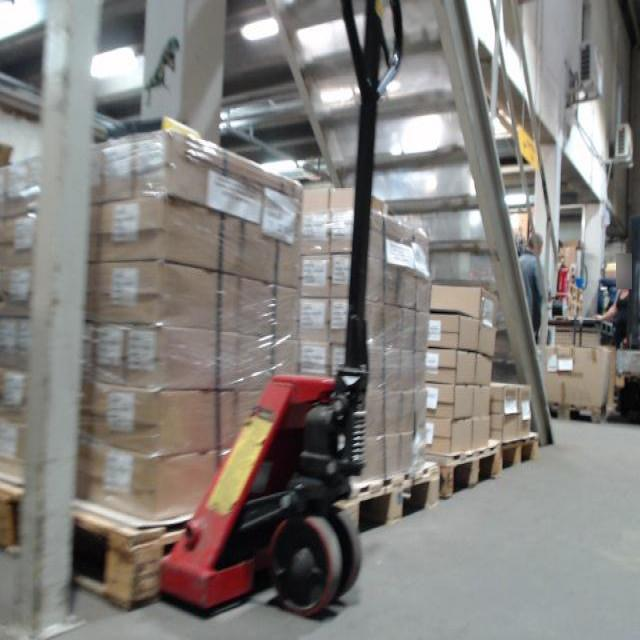pallet: (78, 515, 162, 611), (348, 459, 445, 536), (438, 438, 502, 501), (500, 431, 541, 476), (547, 401, 613, 425)
pallet_truck: (148, 2, 413, 626), (615, 206, 640, 425)
